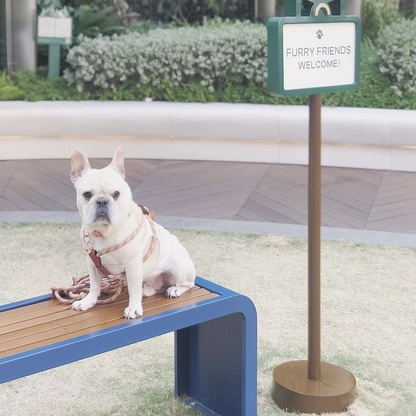bulldog: (68, 143, 198, 320)
